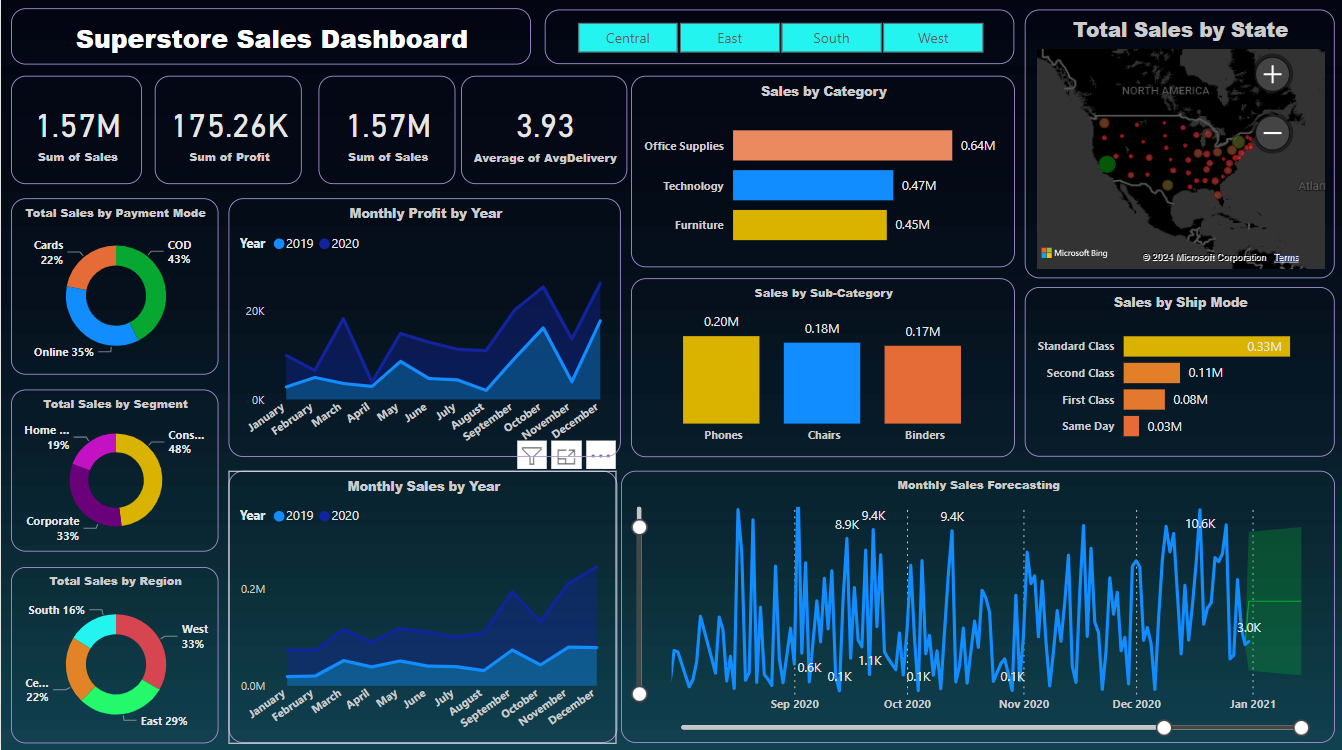

What the dashboard file says about the page in this screenshot:
{"tool":"powerbi","page":{"name":"Page 1","canvas":[1280,720],"ordinal":0},"visuals":[{"type":"barChart","title":"Sales by Category","fields":{"Category":["SuperStore_Sales_Dataset.Category"],"Y":["Sum(SuperStore_Sales_Dataset.Sales)"]},"box":[600,75,365.5,182.1],"z":0},{"type":"clusteredColumnChart","title":"Sales by Sub-Category","fields":{"Category":["SuperStore_Sales_Dataset.Sub-Category"],"Y":["Sum(SuperStore_Sales_Dataset.Sales)"]},"box":[600,267.9,365.5,170.2],"z":1000},{"type":"barChart","title":"Sales by Ship Mode","fields":{"Category":["SuperStore_Sales_Dataset.Ship Mode"],"Y":["Sum(SuperStore_Sales_Dataset.Sales)"]},"box":[975,276.2,295.2,161.9],"z":2000},{"type":"stackedAreaChart","title":"Monthly Sales by Year","fields":{"Category":["SuperStore_Sales_Dataset.Order Date.Variation.Date Hierarchy.Month"],"Y":["Sum(SuperStore_Sales_Dataset.Sales)"],"Series":["SuperStore_Sales_Dataset.Order Date.Variation.Date Hierarchy.Year"]},"box":[216.7,451.2,370.2,259.5],"z":3000},{"type":"stackedAreaChart","title":"Monthly Profit by Year","fields":{"Category":["SuperStore_Sales_Dataset.Order Date.Variation.Date Hierarchy.Month"],"Y":["Sum(SuperStore_Sales_Dataset.Profit)"],"Series":["SuperStore_Sales_Dataset.Order Date.Variation.Date Hierarchy.Year"]},"box":[216.7,191.7,373.8,246.4],"z":4000},{"type":"map","title":"Total Sales by State","fields":{"Category":["SuperStore_Sales_Dataset.State"],"Size":["Sum(SuperStore_Sales_Dataset.Sales)"]},"box":[975,11.9,295.2,256],"z":5000},{"type":"donutChart","title":"Total Sales by Payment Mode","fields":{"Category":["SuperStore_Sales_Dataset.Payment Mode"],"Y":["Sum(SuperStore_Sales_Dataset.Sales)"]},"box":[9.5,191.7,197.6,167.9],"z":6000},{"type":"donutChart","title":"Total Sales by Segment","fields":{"Category":["SuperStore_Sales_Dataset.Segment"],"Y":["Sum(SuperStore_Sales_Dataset.Sales)"]},"box":[9.5,373.8,197.6,154.8],"z":7000},{"type":"slicer","fields":{"Values":["SuperStore_Sales_Dataset.Region"]},"box":[517.3,12.3,447.3,52.1],"z":8000},{"type":"card","fields":{"Values":["Sum(SuperStore_Sales_Dataset.Sales)"]},"box":[9.6,75.5,124.9,102.9],"z":9000},{"type":"card","fields":{"Values":["Sum(SuperStore_Sales_Dataset.Profit)"]},"box":[146.8,75.5,140,102.9],"z":10000},{"type":"card","fields":{"Values":["Sum(SuperStore_Sales_Dataset.Sales)"]},"box":[301.9,75.5,130.4,102.9],"z":11000},{"type":"card","fields":{"Values":["Avg(SuperStore_Sales_Dataset.AvgDelivery)"]},"box":[438.1,75,158.3,103.6],"z":12000},{"type":"textbox","box":[9.6,11,495.4,53.5],"z":13000},{"type":"donutChart","title":"Total Sales by Region","fields":{"Category":["SuperStore_Sales_Dataset.Region"],"Y":["Sum(SuperStore_Sales_Dataset.Sales)"]},"box":[9.5,542.9,197.6,167.9],"z":14000},{"type":"lineChart","title":"Monthly Sales Forecasting","fields":{"Y":["Sum(SuperStore_Sales_Dataset.Sales)"],"Category":["SuperStore_Sales_Dataset.Order Date"]},"box":[590.5,451.2,679.8,259.5],"z":15000}]}

Visuals, with their boxes in screenshot pixels (x1, y1, x2, y2), scaled from the page's 1280x720 canvas onto the 1342x750 screenshot:
"Sales by Category" barChart: left=629, top=78, right=1012, bottom=268
"Sales by Sub-Category" clusteredColumnChart: left=629, top=279, right=1012, bottom=456
"Sales by Ship Mode" barChart: left=1022, top=288, right=1332, bottom=456
"Monthly Sales by Year" stackedAreaChart: left=227, top=470, right=615, bottom=740
"Monthly Profit by Year" stackedAreaChart: left=227, top=200, right=619, bottom=456
"Total Sales by State" map: left=1022, top=12, right=1332, bottom=279
"Total Sales by Payment Mode" donutChart: left=10, top=200, right=217, bottom=375
"Total Sales by Segment" donutChart: left=10, top=389, right=217, bottom=551
slicer - SuperStore_Sales_Dataset.Region: left=542, top=13, right=1011, bottom=67
card - Sum(SuperStore_Sales_Dataset.Sales): left=10, top=79, right=141, bottom=186
card - Sum(SuperStore_Sales_Dataset.Profit): left=154, top=79, right=301, bottom=186
card - Sum(SuperStore_Sales_Dataset.Sales): left=317, top=79, right=453, bottom=186
card - Avg(SuperStore_Sales_Dataset.AvgDelivery): left=459, top=78, right=625, bottom=186
textbox: left=10, top=11, right=529, bottom=67
"Total Sales by Region" donutChart: left=10, top=566, right=217, bottom=740
"Monthly Sales Forecasting" lineChart: left=619, top=470, right=1332, bottom=740
